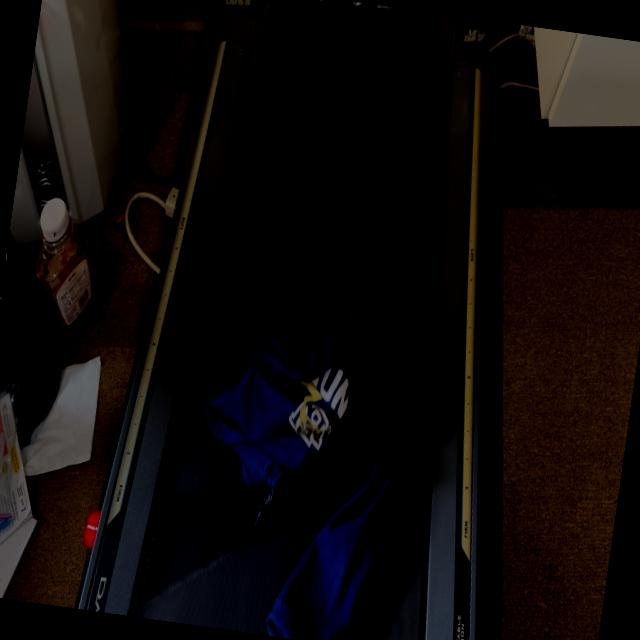Trash: (145, 217, 432, 640)
